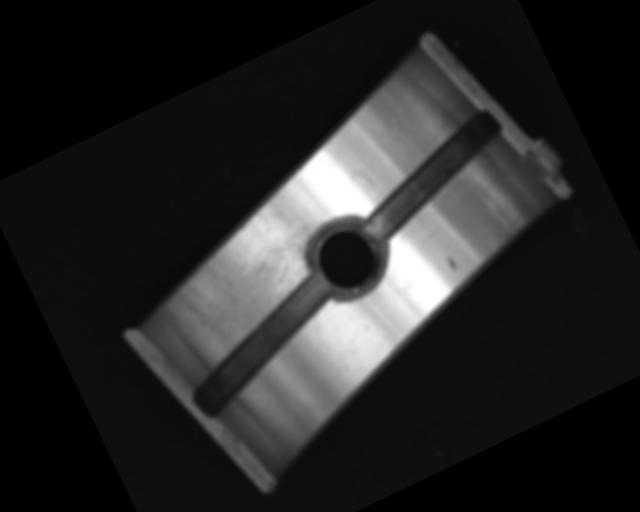bruise: (443, 252, 460, 272)
gap: (169, 273, 357, 421), (340, 105, 521, 243)
hole: (294, 203, 402, 313)
nick: (349, 158, 388, 205), (477, 188, 513, 238)
scratch: (143, 169, 361, 367)
